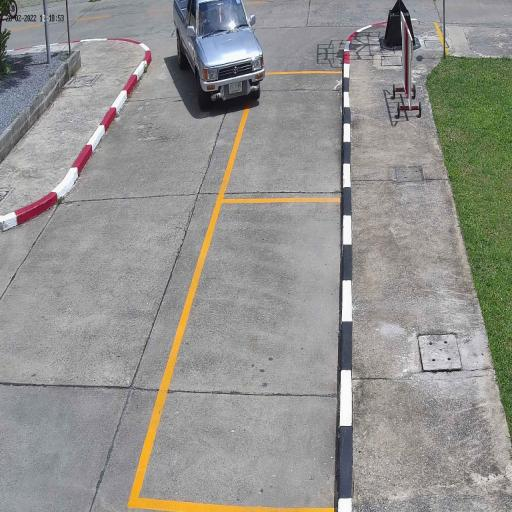car: (173, 2, 264, 104)
